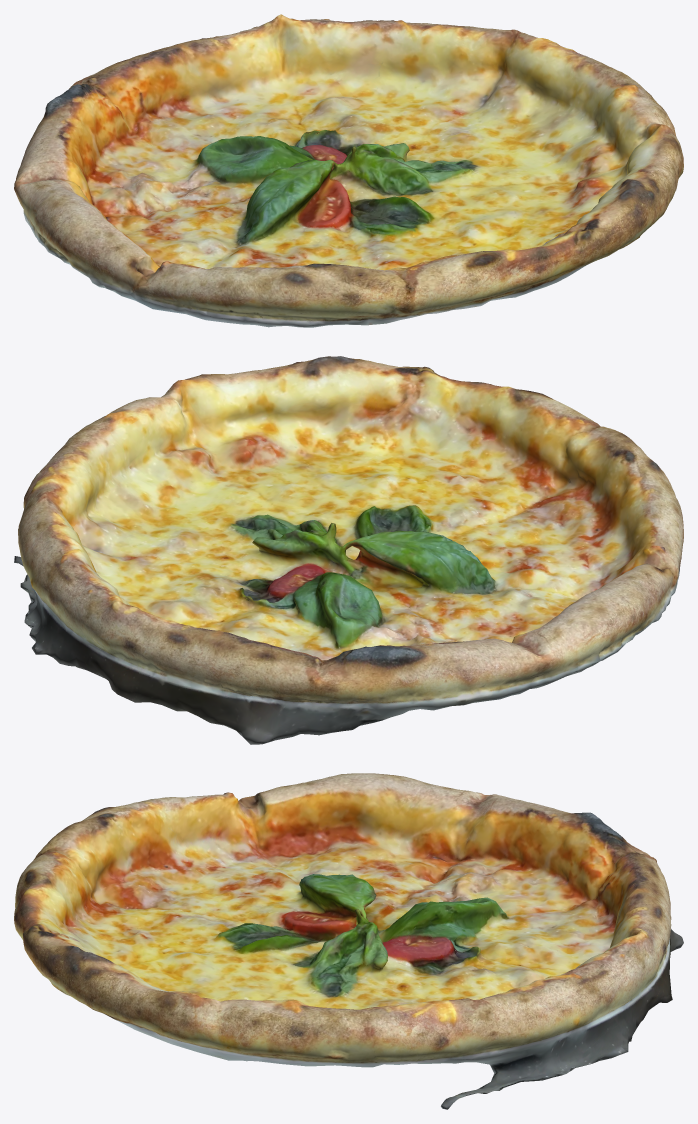
The model's file is thon 2.glb.
3 renders of one model, top to bottom at view 1: azimuth 30°, elevation 25°; view 2: azimuth 150°, elevation 25°; view 3: azimuth 270°, elevation 25°, orthographic. The views are drawn at different scales.
Parts seen in each view (by area): view 1: ObjectCapture; view 2: ObjectCapture; view 3: ObjectCapture.
Part boxes in pixels (x1=…): ObjectCapture: x1=14, y1=14, x2=683, y2=327; ObjectCapture: x1=14, y1=356, x2=683, y2=744; ObjectCapture: x1=14, y1=773, x2=683, y2=1109.
Size of the model in its own units: 0.2809 by 0.0497 by 0.2861.
Materials: 1 (1 with a texture image).
